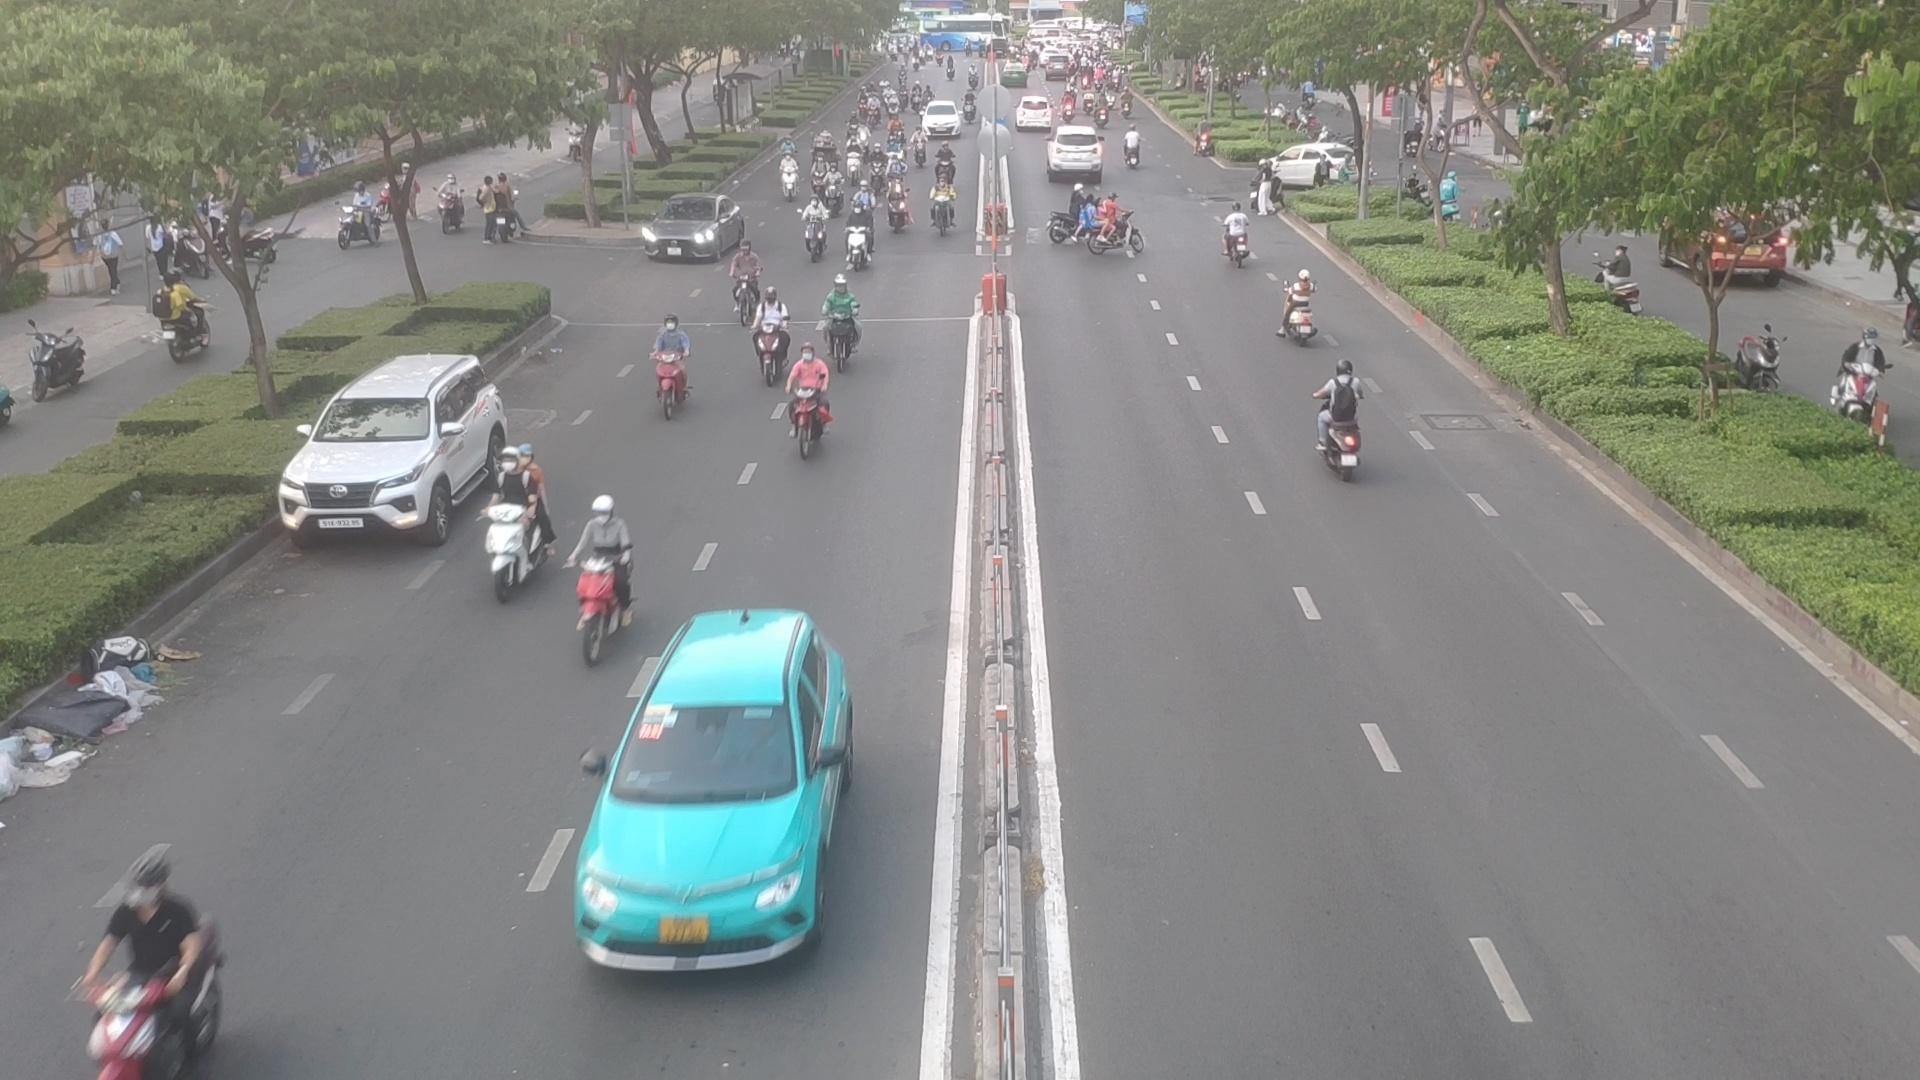car: (568, 608, 851, 969), (272, 349, 512, 541), (644, 196, 749, 262), (1255, 142, 1371, 187), (1040, 131, 1105, 186)
motorbike: (88, 848, 199, 1080), (475, 433, 535, 593), (572, 498, 634, 634), (1315, 363, 1360, 473), (793, 347, 841, 448), (644, 295, 686, 409), (1079, 198, 1142, 255), (1275, 262, 1316, 342), (753, 281, 785, 371), (822, 277, 858, 351), (1222, 206, 1254, 272), (731, 243, 758, 310), (847, 206, 872, 277), (930, 179, 957, 233), (1117, 119, 1146, 167), (887, 175, 909, 235), (800, 198, 822, 253), (822, 166, 844, 216), (781, 156, 796, 204), (866, 150, 881, 190), (889, 140, 905, 175), (911, 131, 928, 162), (812, 154, 825, 191), (935, 144, 948, 179), (847, 146, 858, 185), (856, 123, 868, 153)
